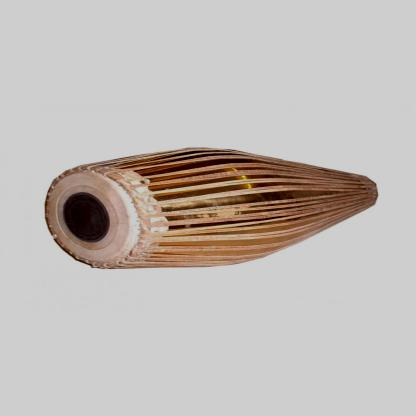Mridangam: (31, 142, 388, 283)
